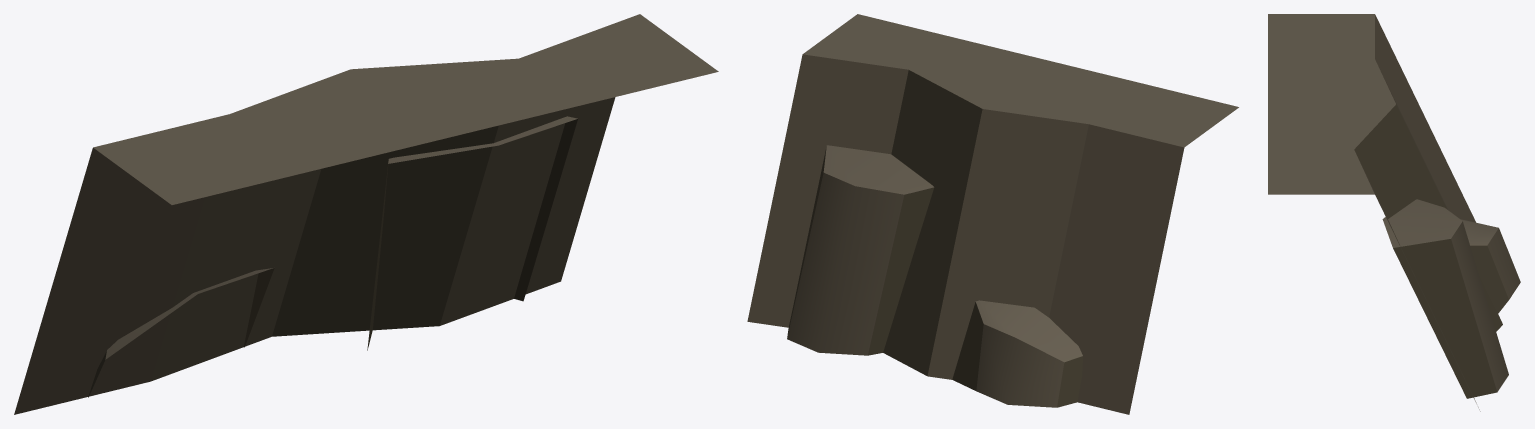
File: SF_Env_RockEdge_Straight_01.fbx
3 views of the same model, side by side, from view 1: azimuth 30°, elevation 25°; view 2: azimuth 150°, elevation 25°; view 3: azimuth 270°, elevation 25° (orthographic). The views are drawn at different scales.
Parts seen in each view (by area): view 1: SF_Env_RockEdge_Straight_01; view 2: SF_Env_RockEdge_Straight_01; view 3: SF_Env_RockEdge_Straight_01.
Boxes of the visible parts, left/top/right/bottom form: SF_Env_RockEdge_Straight_01: left=14, top=14, right=718, bottom=414; SF_Env_RockEdge_Straight_01: left=747, top=14, right=1238, bottom=414; SF_Env_RockEdge_Straight_01: left=1268, top=14, right=1520, bottom=411.
Size of the model in its own units: 10 by 5.68 by 5.91.
